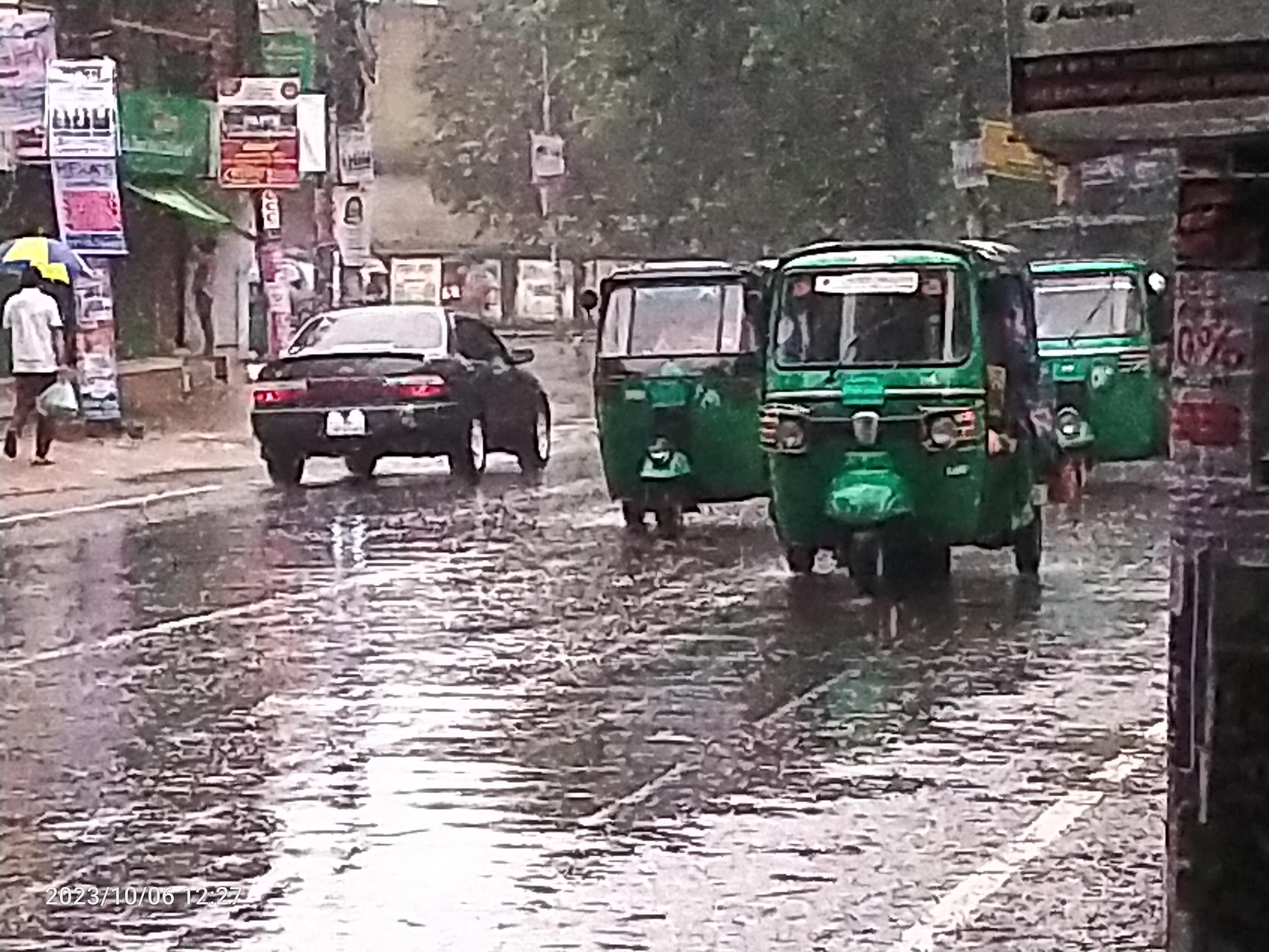Car: (230, 287, 582, 518)
